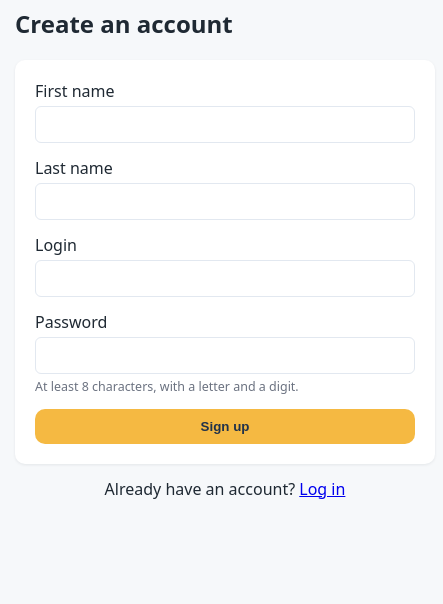
RegisterPage › blocks submission and shows field errors for an invalid form
Click the button "Sign up": (225, 426) [35, 409, 415, 444]
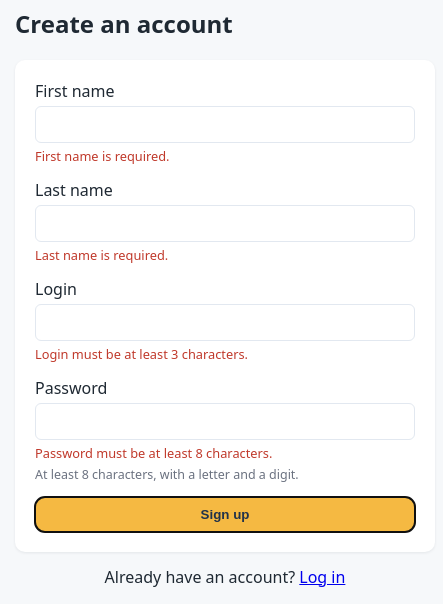
expect the text "First name is required." is shown: met, box [35, 147, 170, 165]
expect the text "Last name is required." is shown: met, box [35, 246, 168, 264]
